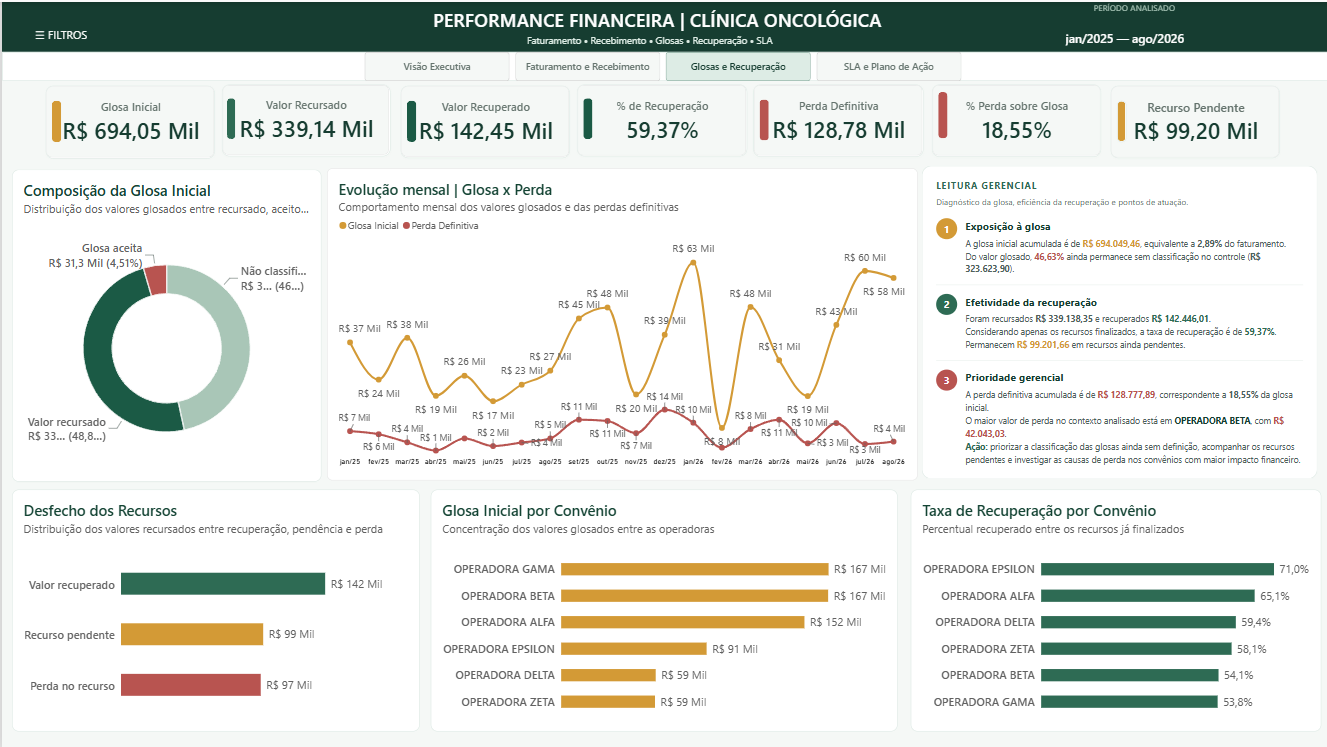

This screenshot's page, from the dashboard's own definition file:
{"tool":"powerbi","page":{"name":"Glosas e Recuperação","canvas":[1920,1080],"ordinal":2},"visuals":[{"type":"group","id":"g1","title":"Cabeçalho","box":[0,0,2560.7,114.4],"z":0},{"type":"shape","box":[0,0,2560,72],"z":0,"group":"g1"},{"type":"cardVisual","fields":{"Data":["00_Medidas.% Recuperação Recursos Finalizados"]},"box":[832.4,119.2,246,104],"z":0,"group":"g7"},{"type":"cardVisual","fields":{"Data":["00_Medidas.Perda Definitiva"]},"box":[1087.4,119.5,246,104.6],"z":0,"group":"g3"},{"type":"cardVisual","fields":{"Data":["00_Medidas.% Perda sobre Glosa"]},"box":[1345.9,119.5,245,105],"z":0,"group":"g8"},{"type":"cardVisual","fields":{"Data":["00_Medidas.Valor Recursado"]},"box":[319.1,120.1,243.9,103.8],"z":0,"group":"g6"},{"type":"cardVisual","fields":{"Data":["00_Medidas.Recurso Pendente"]},"box":[1605,120.9,245,105],"z":0,"group":"g4"},{"type":"cardVisual","fields":{"Data":["00_Medidas.Valor Recuperado"]},"box":[576.4,121.2,245,105],"z":0,"group":"g5"},{"type":"cardVisual","fields":{"Data":["00_Medidas.Glosa Inicial"]},"box":[62.8,121.6,245,105.6],"z":0,"group":"g2"},{"type":"textbox","box":[624.3,7.2,669.6,57.9],"z":1000,"group":"g1"},{"type":"actionButton","box":[24,18,124,58],"z":1000},{"type":"shape","box":[1354.3,129.7,13.4,67],"z":1000,"group":"g8"},{"type":"shape","box":[841,140,13.5,59.1],"z":1000,"group":"g7"},{"type":"shape","box":[1096,140.4,13.5,59.4],"z":1000,"group":"g3"},{"type":"shape","box":[326.8,140.9,12.2,59],"z":1000,"group":"g6"},{"type":"shape","box":[1613.5,141.9,13.4,59.7],"z":1000,"group":"g4"},{"type":"shape","box":[584.9,142.2,13.4,59.7],"z":1000,"group":"g5"},{"type":"shape","box":[71.3,142.7,13.4,60],"z":1000,"group":"g2"},{"type":"textbox","box":[760,45.2,399.9,43.4],"z":2000,"group":"g1"},{"type":"cardVisual","title":"PERÍODO ANALISADO","fields":{"Data":["00_Medidas.Período Selecionado"]},"box":[1523.7,0,231.6,72.4],"z":3000,"group":"g1"},{"type":"group","id":"g2","title":"Card 2","box":[62.8,121.6,245.3,105.7],"z":3000},{"type":"shape","box":[0,72.4,2560.7,42],"z":4000,"group":"g1"},{"type":"group","id":"g3","title":"Card 3","box":[1087.4,119.5,244,106],"z":4000},{"type":"pageNavigator","box":[524.8,72.4,866.8,42],"z":5000,"group":"g1"},{"type":"group","id":"g4","title":"Card 1","box":[1605,120.9,245.7,105.7],"z":5000},{"type":"group","id":"g5","title":"Card 1","box":[576.4,121.2,246,106],"z":6000},{"type":"group","id":"g6","title":"Card 1","box":[319.1,120.1,245,105],"z":7000},{"type":"donutChart","title":"Composição da Glosa Inicial","fields":{"Category":["Dim_Composicao_Glosa.Componente"],"Y":["00_Medidas.Valor Componente Glosa"]},"box":[15,241.7,448.3,451.7],"z":8000},{"type":"clusteredBarChart","title":"Desfecho dos Recursos","fields":{"Category":["Dim_Desfecho_Recurso.Desfecho"],"Y":["00_Medidas.Valor Desfecho Recurso"]},"box":[14,706,590,350],"z":9000},{"type":"clusteredBarChart","title":"Glosa Inicial por Convênio","fields":{"Category":["base_analitica_oncologia.NM_CONVENIO_PADRAO"],"Y":["00_Medidas.Glosa Inicial"]},"box":[620,706,676,350],"z":10000},{"type":"htmlContent443BE3AD55E043BF878BED274D3A6855","fields":{"content":["00_Medidas.HTML Leitura Gerencial Glosas"]},"box":[1315.6,222.6,604.4,483.2],"z":11000},{"type":"lineChart","title":"Evolução mensal | Glosa x Perda","fields":{"Category":["Dim_Calendario.MesAnoCurto"],"Y":["00_Medidas.Glosa Inicial","00_Medidas.Perda Definitiva"]},"box":[470,240,855,451.7],"z":12000},{"type":"clusteredBarChart","title":"Taxa de Recuperação por Convênio","fields":{"Category":["base_analitica_oncologia.NM_CONVENIO_PADRAO"],"Y":["00_Medidas.% Recuperação Recursos Finalizados"]},"box":[1316,706,594,350],"z":13000},{"type":"group","id":"g7","title":"Card 1","box":[832.4,119.2,246,106],"z":14000},{"type":"group","id":"g8","title":"Card 3","box":[1345.9,119.5,244.3,105.7],"z":15000}]}

Visuals, with their boxes in screenshot pixels (x1, y1, x2, y2), scaled from the page's 1920x1080 canvas onto the 1327x747 screenshot:
"Cabeçalho" group: 0/0/1326/79
shape: 0/0/1326/50
cardVisual - 00_Medidas.% Recuperação Recursos Finalizados: 575/82/745/154
cardVisual - 00_Medidas.Perda Definitiva: 752/83/922/155
cardVisual - 00_Medidas.% Perda sobre Glosa: 930/83/1100/155
cardVisual - 00_Medidas.Valor Recursado: 221/83/389/155
cardVisual - 00_Medidas.Recurso Pendente: 1109/84/1279/156
cardVisual - 00_Medidas.Valor Recuperado: 398/84/568/156
cardVisual - 00_Medidas.Glosa Inicial: 43/84/213/157
textbox: 431/5/894/45
actionButton: 17/12/102/53
shape: 936/90/945/136
shape: 581/97/591/138
shape: 757/97/767/138
shape: 226/97/234/138
shape: 1115/98/1124/139
shape: 404/98/414/140
shape: 49/99/59/140
textbox: 525/31/802/61
"PERÍODO ANALISADO" cardVisual: 1053/0/1213/50
"Card 2" group: 43/84/213/157
shape: 0/50/1326/79
"Card 3" group: 752/83/920/156
pageNavigator: 363/50/962/79
"Card 1" group: 1109/84/1279/157
"Card 1" group: 398/84/568/157
"Card 1" group: 221/83/390/156
"Composição da Glosa Inicial" donutChart: 10/167/320/480
"Desfecho dos Recursos" clusteredBarChart: 10/488/417/730
"Glosa Inicial por Convênio" clusteredBarChart: 429/488/896/730
htmlContent443BE3AD55E043BF878BED274D3A6855 - 00_Medidas.HTML Leitura Gerencial Glosas: 909/154/1326/488
"Evolução mensal | Glosa x Perda" lineChart: 325/166/916/478
"Taxa de Recuperação por Convênio" clusteredBarChart: 910/488/1320/730
"Card 1" group: 575/82/745/156
"Card 3" group: 930/83/1099/156
